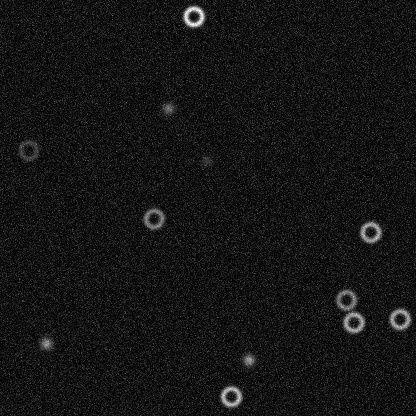Ring: (387, 307, 411, 331), (334, 287, 358, 311), (141, 206, 165, 230), (181, 4, 205, 28), (218, 384, 242, 408), (358, 220, 382, 244), (16, 138, 40, 162), (341, 310, 365, 334)
Spot: (38, 335, 54, 351), (198, 152, 214, 168), (240, 351, 256, 367), (160, 100, 176, 116)
